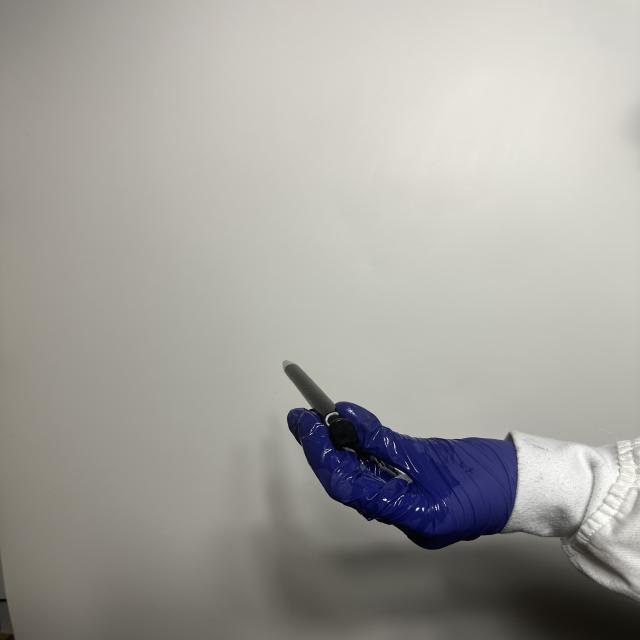gloves_contaminated: (288, 402, 518, 549)
